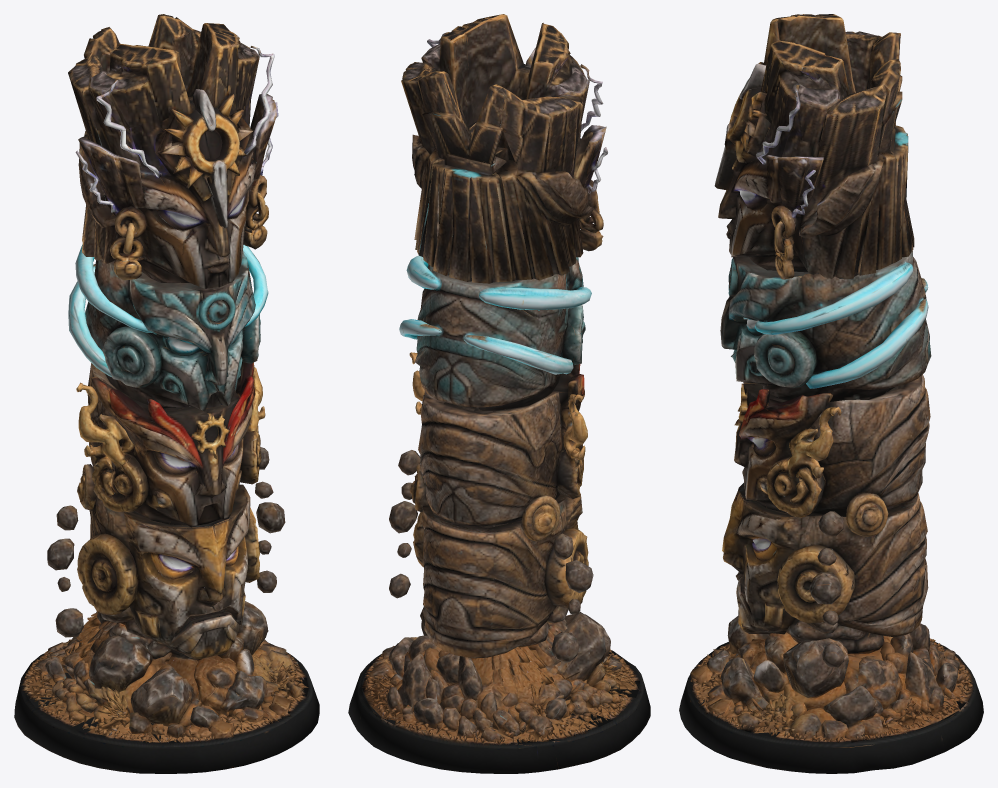
Rendered from PrimalIdol.fbx.
3 renders of one model, left to right at view 1: azimuth 30°, elevation 25°; view 2: azimuth 150°, elevation 25°; view 3: azimuth 270°, elevation 25°, orthographic.
Parts seen in each view (by area): view 1: Mesh_0; view 2: Mesh_0; view 3: Mesh_0.
Part boxes in pixels (<box>): Mesh_0: <box>14,14,319,773</box>; Mesh_0: <box>348,14,650,773</box>; Mesh_0: <box>679,14,983,773</box>.
Size of the model in its own units: 38.53 by 94.97 by 38.48.
1 material, 1 textured.
